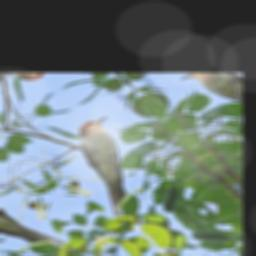Cuckoo: (38, 113, 195, 233)
